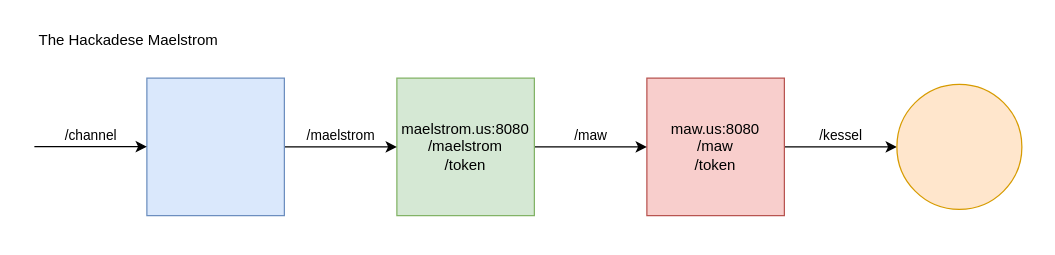
Some shapes in this 1055 by 255 pixel diagram are drawn without their labels. Here are the shapes that lost their labels. From the top down, the centre of each, then its label:
At [215,146]: "channel.us:8080 /channel".
At [959,146]: "kessel.us:8080 /kessel /token".
